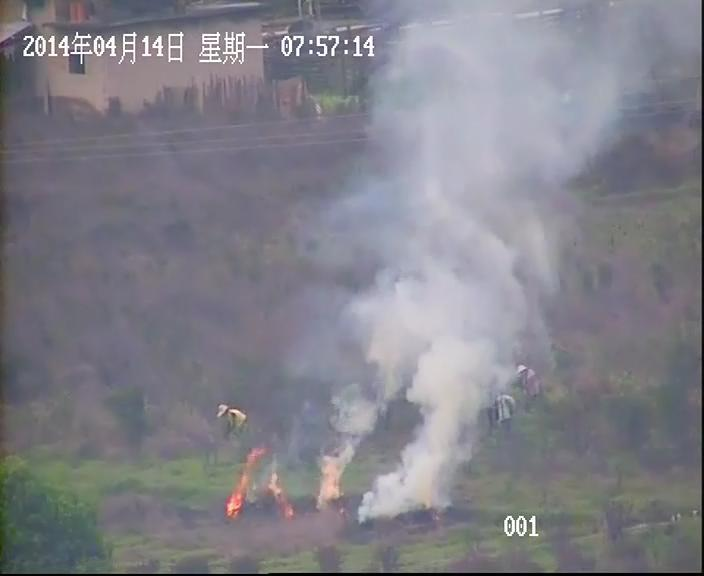smoke: (356, 7, 626, 515), (308, 174, 415, 510)
